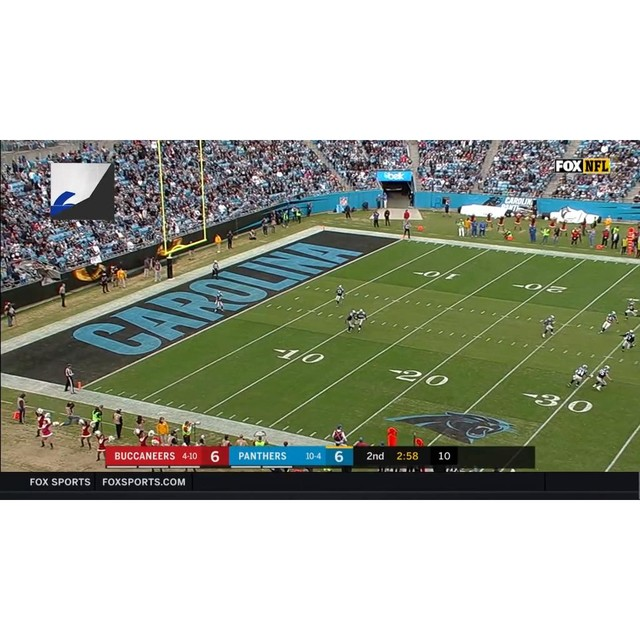american-football-player: (592, 366, 611, 392), (78, 419, 93, 450), (568, 365, 588, 388), (598, 312, 615, 335), (620, 330, 636, 352), (623, 299, 638, 319), (345, 311, 358, 333), (356, 309, 367, 333), (213, 293, 224, 315), (334, 285, 345, 307)
referee: (64, 363, 76, 395)
